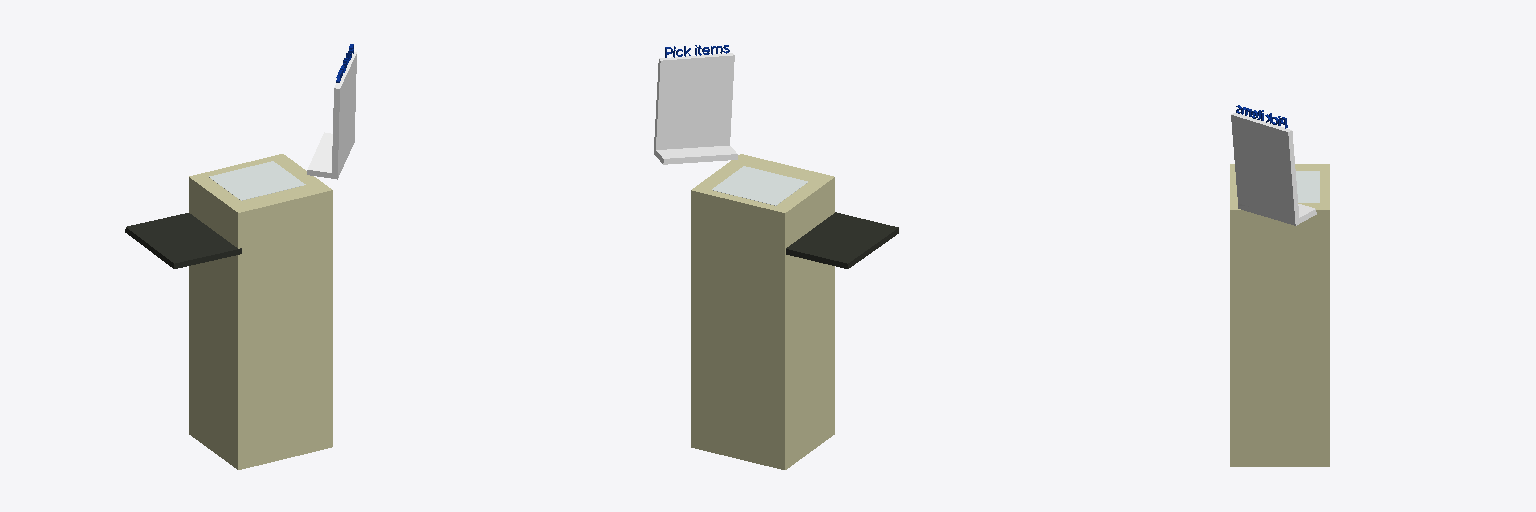
The model's file is checkoutMachv5.obj.
3 renders of one model, left to right at view 1: azimuth 30°, elevation 25°; view 2: azimuth 150°, elevation 25°; view 3: azimuth 270°, elevation 25°, orthographic.
Visible parts, largest first — view 1: mesh[number redacted], mesh[number redacted], mesh[number redacted], mesh[number redacted]; view 2: mesh[number redacted], mesh[number redacted], mesh[number redacted], mesh[number redacted]; view 3: mesh[number redacted], mesh[number redacted], mesh[number redacted].
Boxes of the visible parts, box(x1,y1,x2,y2) form: mesh[number redacted]: box(189, 154, 332, 469); mesh[number redacted]: box(125, 213, 241, 268); mesh[number redacted]: box(307, 52, 356, 179); mesh[number redacted]: box(209, 161, 305, 200); mesh[number redacted]: box(691, 154, 834, 469); mesh[number redacted]: box(654, 53, 737, 164); mesh[number redacted]: box(786, 212, 898, 268); mesh[number redacted]: box(712, 166, 807, 205); mesh[number redacted]: box(1230, 164, 1329, 466); mesh[number redacted]: box(1231, 113, 1316, 225); mesh[number redacted]: box(1296, 171, 1319, 202).
Size of the model in its own units: 1.03 by 1.71 by 0.4207.